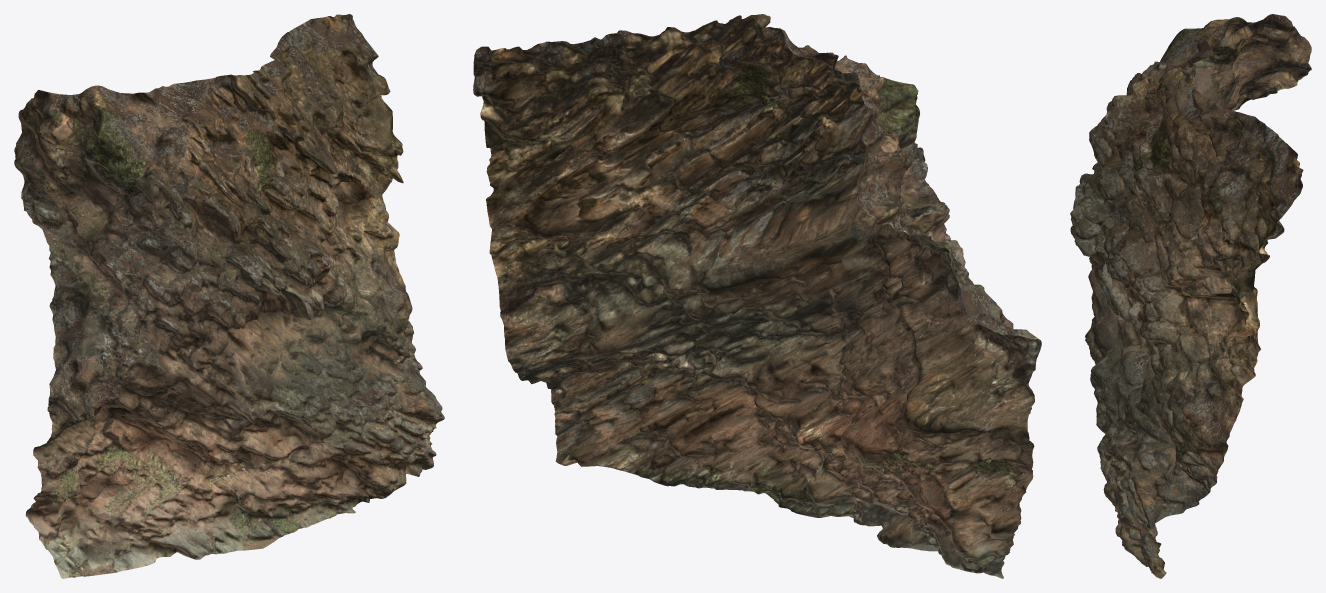
Rendered from mountainside_lod.glb.
3 renders of one model, left to right at view 1: azimuth 30°, elevation 25°; view 2: azimuth 150°, elevation 25°; view 3: azimuth 270°, elevation 25°, orthographic. The views are drawn at different scales.
Parts seen in each view (by area): view 1: mountainside; view 2: mountainside; view 3: mountainside.
Boxes of the visible parts, x1,y1,x2,y2 form: mountainside: (14, 14, 444, 578); mountainside: (473, 14, 1041, 578); mountainside: (1070, 14, 1311, 578).
Bounding box in the file's own units: 10.21 × 10.52 × 5.25.
Materials: 1 (1 with a texture image).
